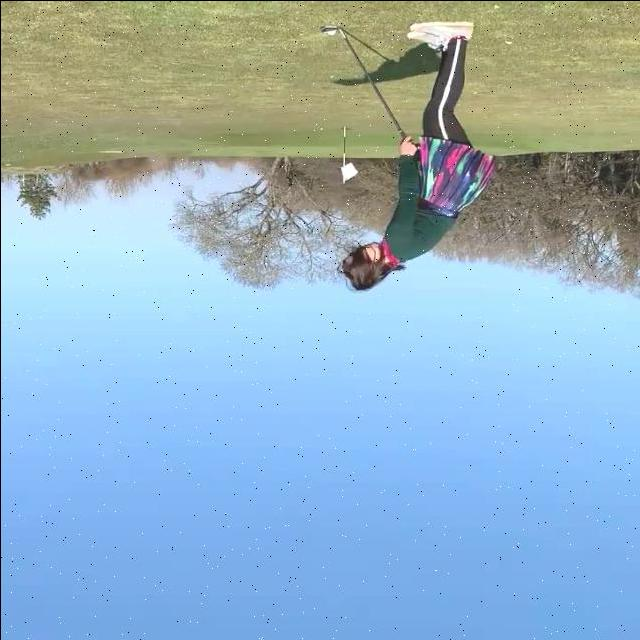golf ball: (327, 30, 335, 34)
golf club-handle: (320, 24, 405, 139)
golf club-head: (319, 24, 338, 32)
